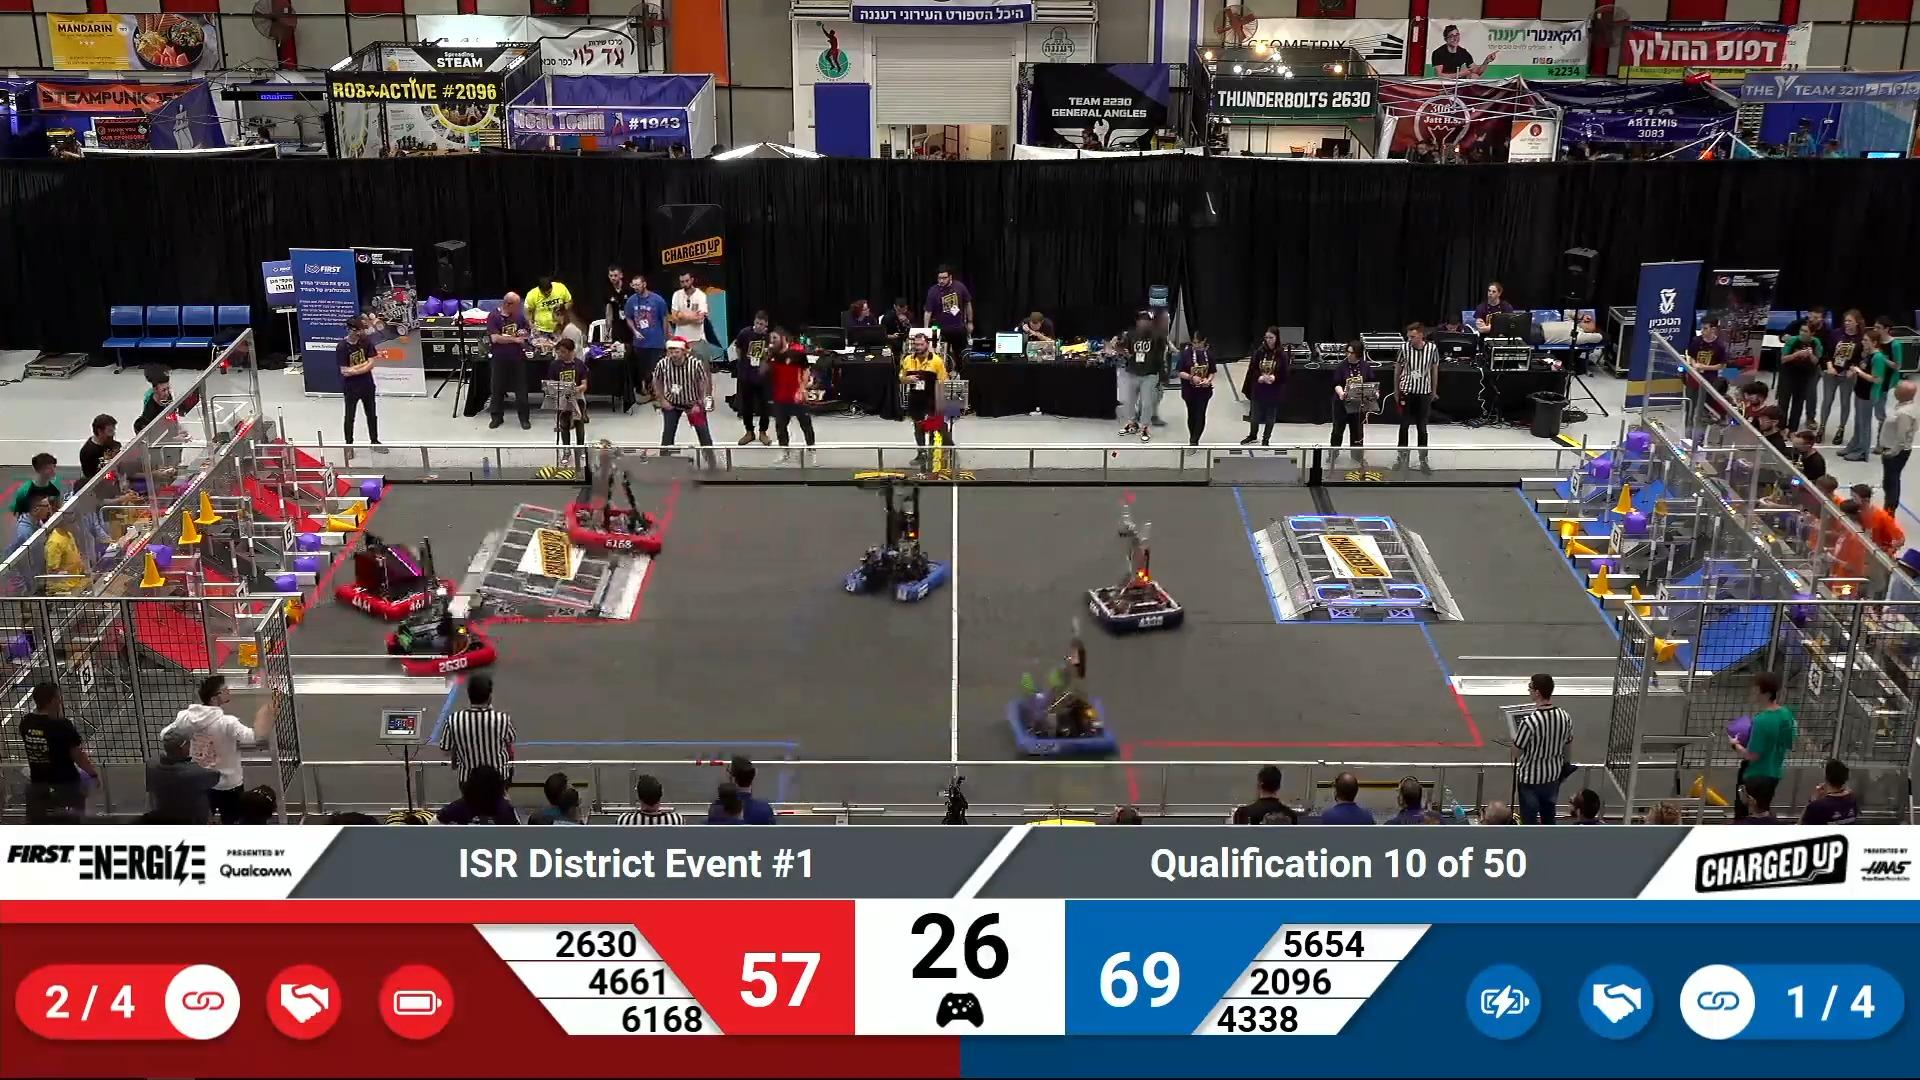robot: (833, 502, 953, 605), (1007, 663, 1124, 766), (338, 527, 450, 620), (381, 601, 497, 686), (1083, 539, 1185, 633), (563, 480, 667, 560)
